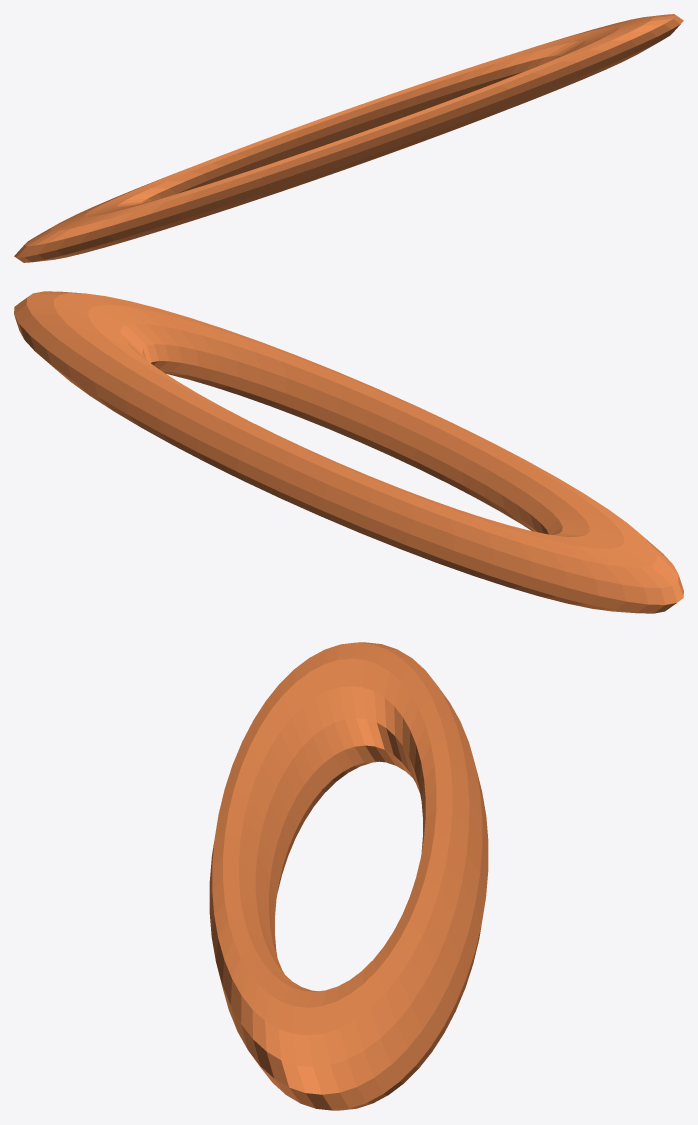
File: Donut.fbx
The picture shows the model from 3 angles, top to bottom: view 1: azimuth 30°, elevation 25°; view 2: azimuth 150°, elevation 25°; view 3: azimuth 270°, elevation 25°; orthographic projection. The views are drawn at different scales.
Visible parts, largest first — view 1: Torus; view 2: Torus; view 3: Torus.
Boxes of the visible parts, x1,y1,x2,y2 form: Torus: [14, 14, 683, 262]; Torus: [14, 291, 683, 613]; Torus: [209, 642, 488, 1110].
Bounding box in the file's own units: 705 × 135 × 132.
